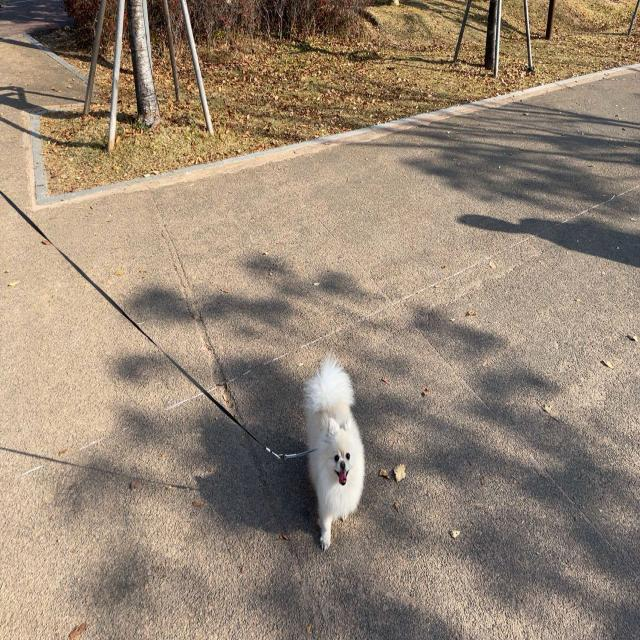Dog: (302, 350, 367, 553)
